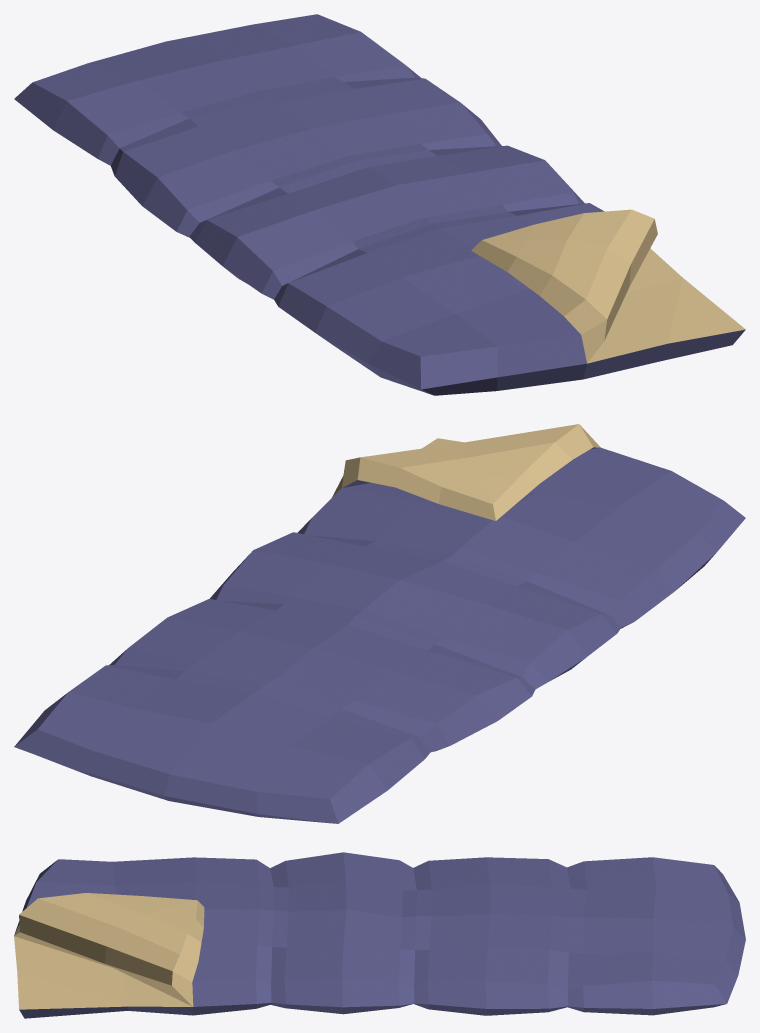
Rendered from SleepingBag.fbx.
3 views of the same model, one above another, from view 1: azimuth 30°, elevation 25°; view 2: azimuth 150°, elevation 25°; view 3: azimuth 270°, elevation 25° (orthographic). The views are drawn at different scales.
Visible parts, largest first — view 1: SleepingBag; view 2: SleepingBag; view 3: SleepingBag.
Boxes of the visible parts, x1,y1,x2,y2 form: SleepingBag: [14, 14, 745, 395]; SleepingBag: [14, 424, 745, 823]; SleepingBag: [14, 852, 745, 1018].
Size of the model in its own units: 143 by 32.29 by 309.
